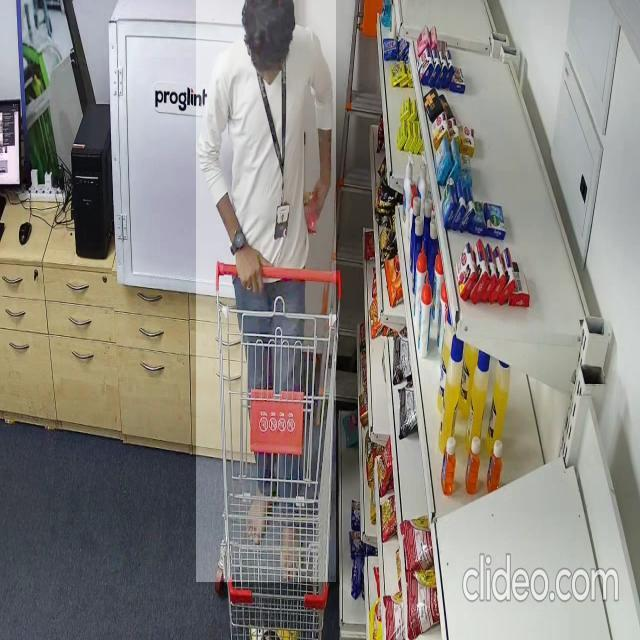Shoplifting: (196, 0, 336, 582)
